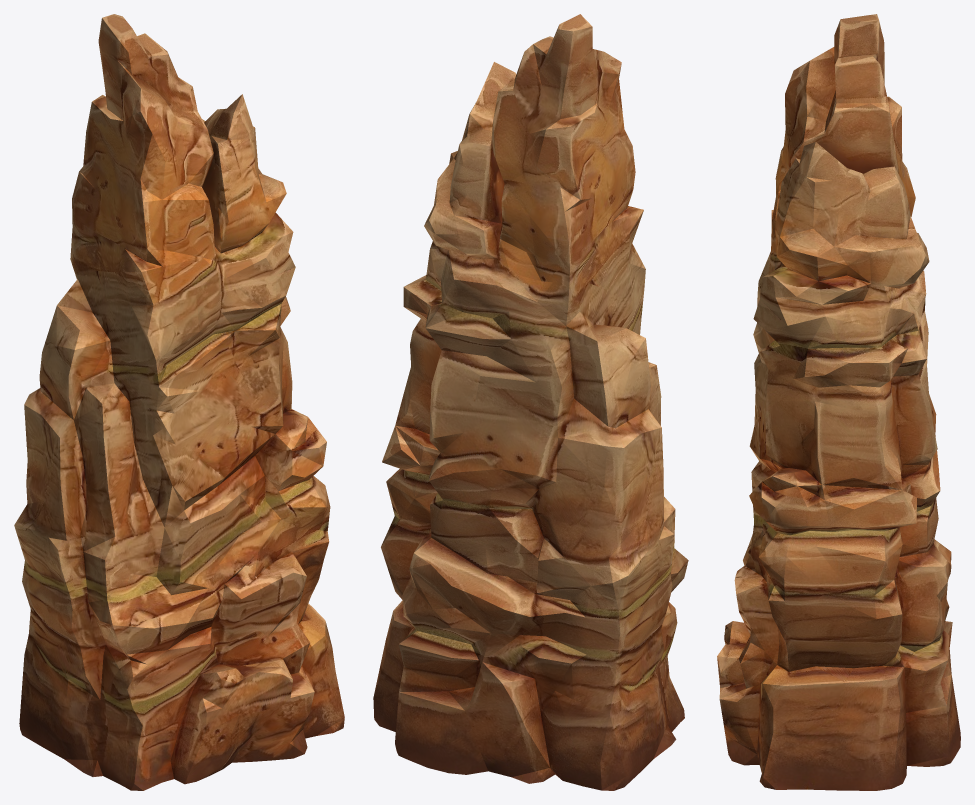
Rendered from cliff.glb.
3 views of the same model, side by side, from view 1: azimuth 30°, elevation 25°; view 2: azimuth 150°, elevation 25°; view 3: azimuth 270°, elevation 25° (orthographic). The views are drawn at different scales.
Visible parts, largest first — view 1: Mesh; view 2: Mesh; view 3: Mesh.
Part boxes in pixels (left/top/right/bottom): Mesh: left=14, top=14, right=344, bottom=790; Mesh: left=373, top=14, right=688, bottom=790; Mesh: left=717, top=14, right=960, bottom=790.
Bounding box in the file's own units: 0.3862 × 0.9997 × 0.3215.
1 material, 1 textured.
